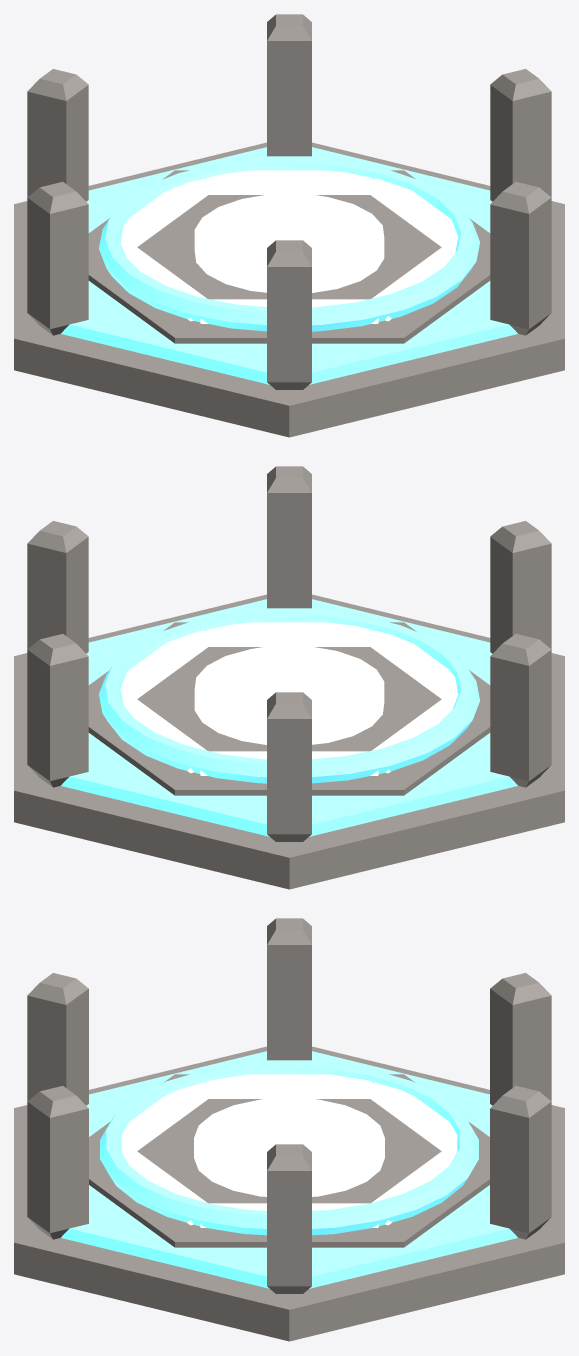
Rendered from vfx-mesh-library-teleport-pad-glyph-5f80de9e__21899.glb.
3 renders of one model, top to bottom at view 1: azimuth 30°, elevation 25°; view 2: azimuth 150°, elevation 25°; view 3: azimuth 270°, elevation 25°, orthographic.
Visible parts, largest first — view 1: teleport-pad-glyph; view 2: teleport-pad-glyph; view 3: teleport-pad-glyph.
Boxes of the visible parts, bbox=[...] form: teleport-pad-glyph: bbox=[14, 14, 564, 437]; teleport-pad-glyph: bbox=[14, 466, 564, 889]; teleport-pad-glyph: bbox=[14, 918, 564, 1341].
Bounding box in the file's own units: 1 × 0.295 × 0.8661.
